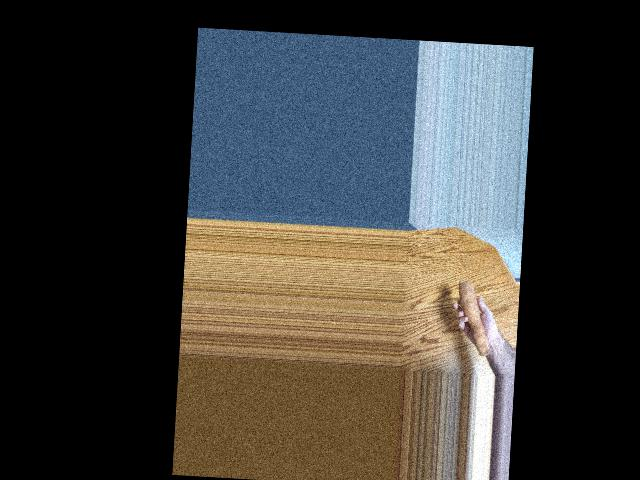sweet_potato: (452, 280, 493, 355)
